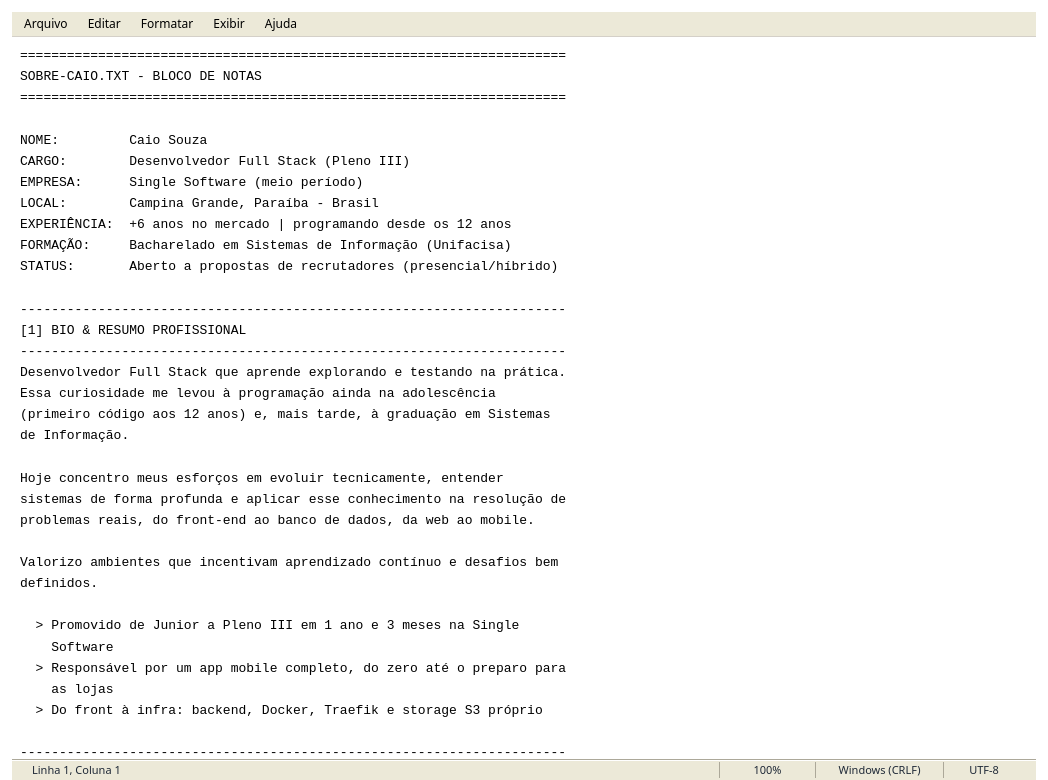
Scenario: Windows XP Portfolio Applications › NotepadApp › interacts with menu items
Step 1. Click the button with test id "menu-Arquivo" → (46, 24), box 16,14 -> 76,34
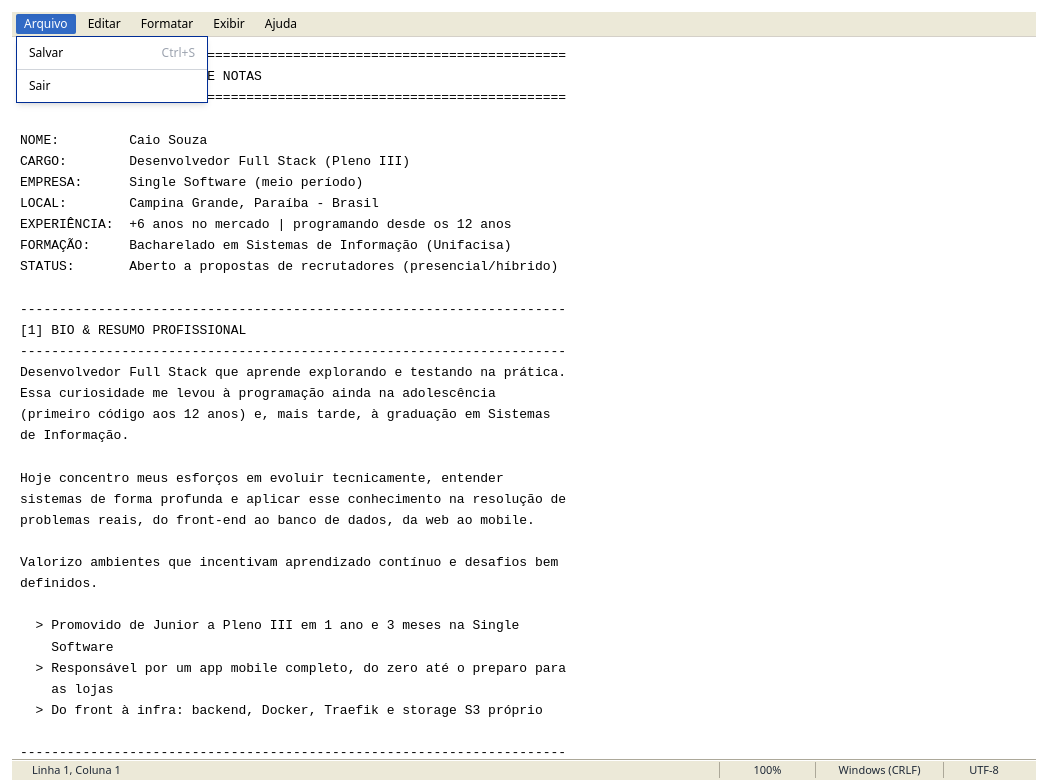
Expected: the text "Salvar" is shown, 29,45 -> 63,61
Expected: the button "Sair" is shown, 17,74 -> 207,98
